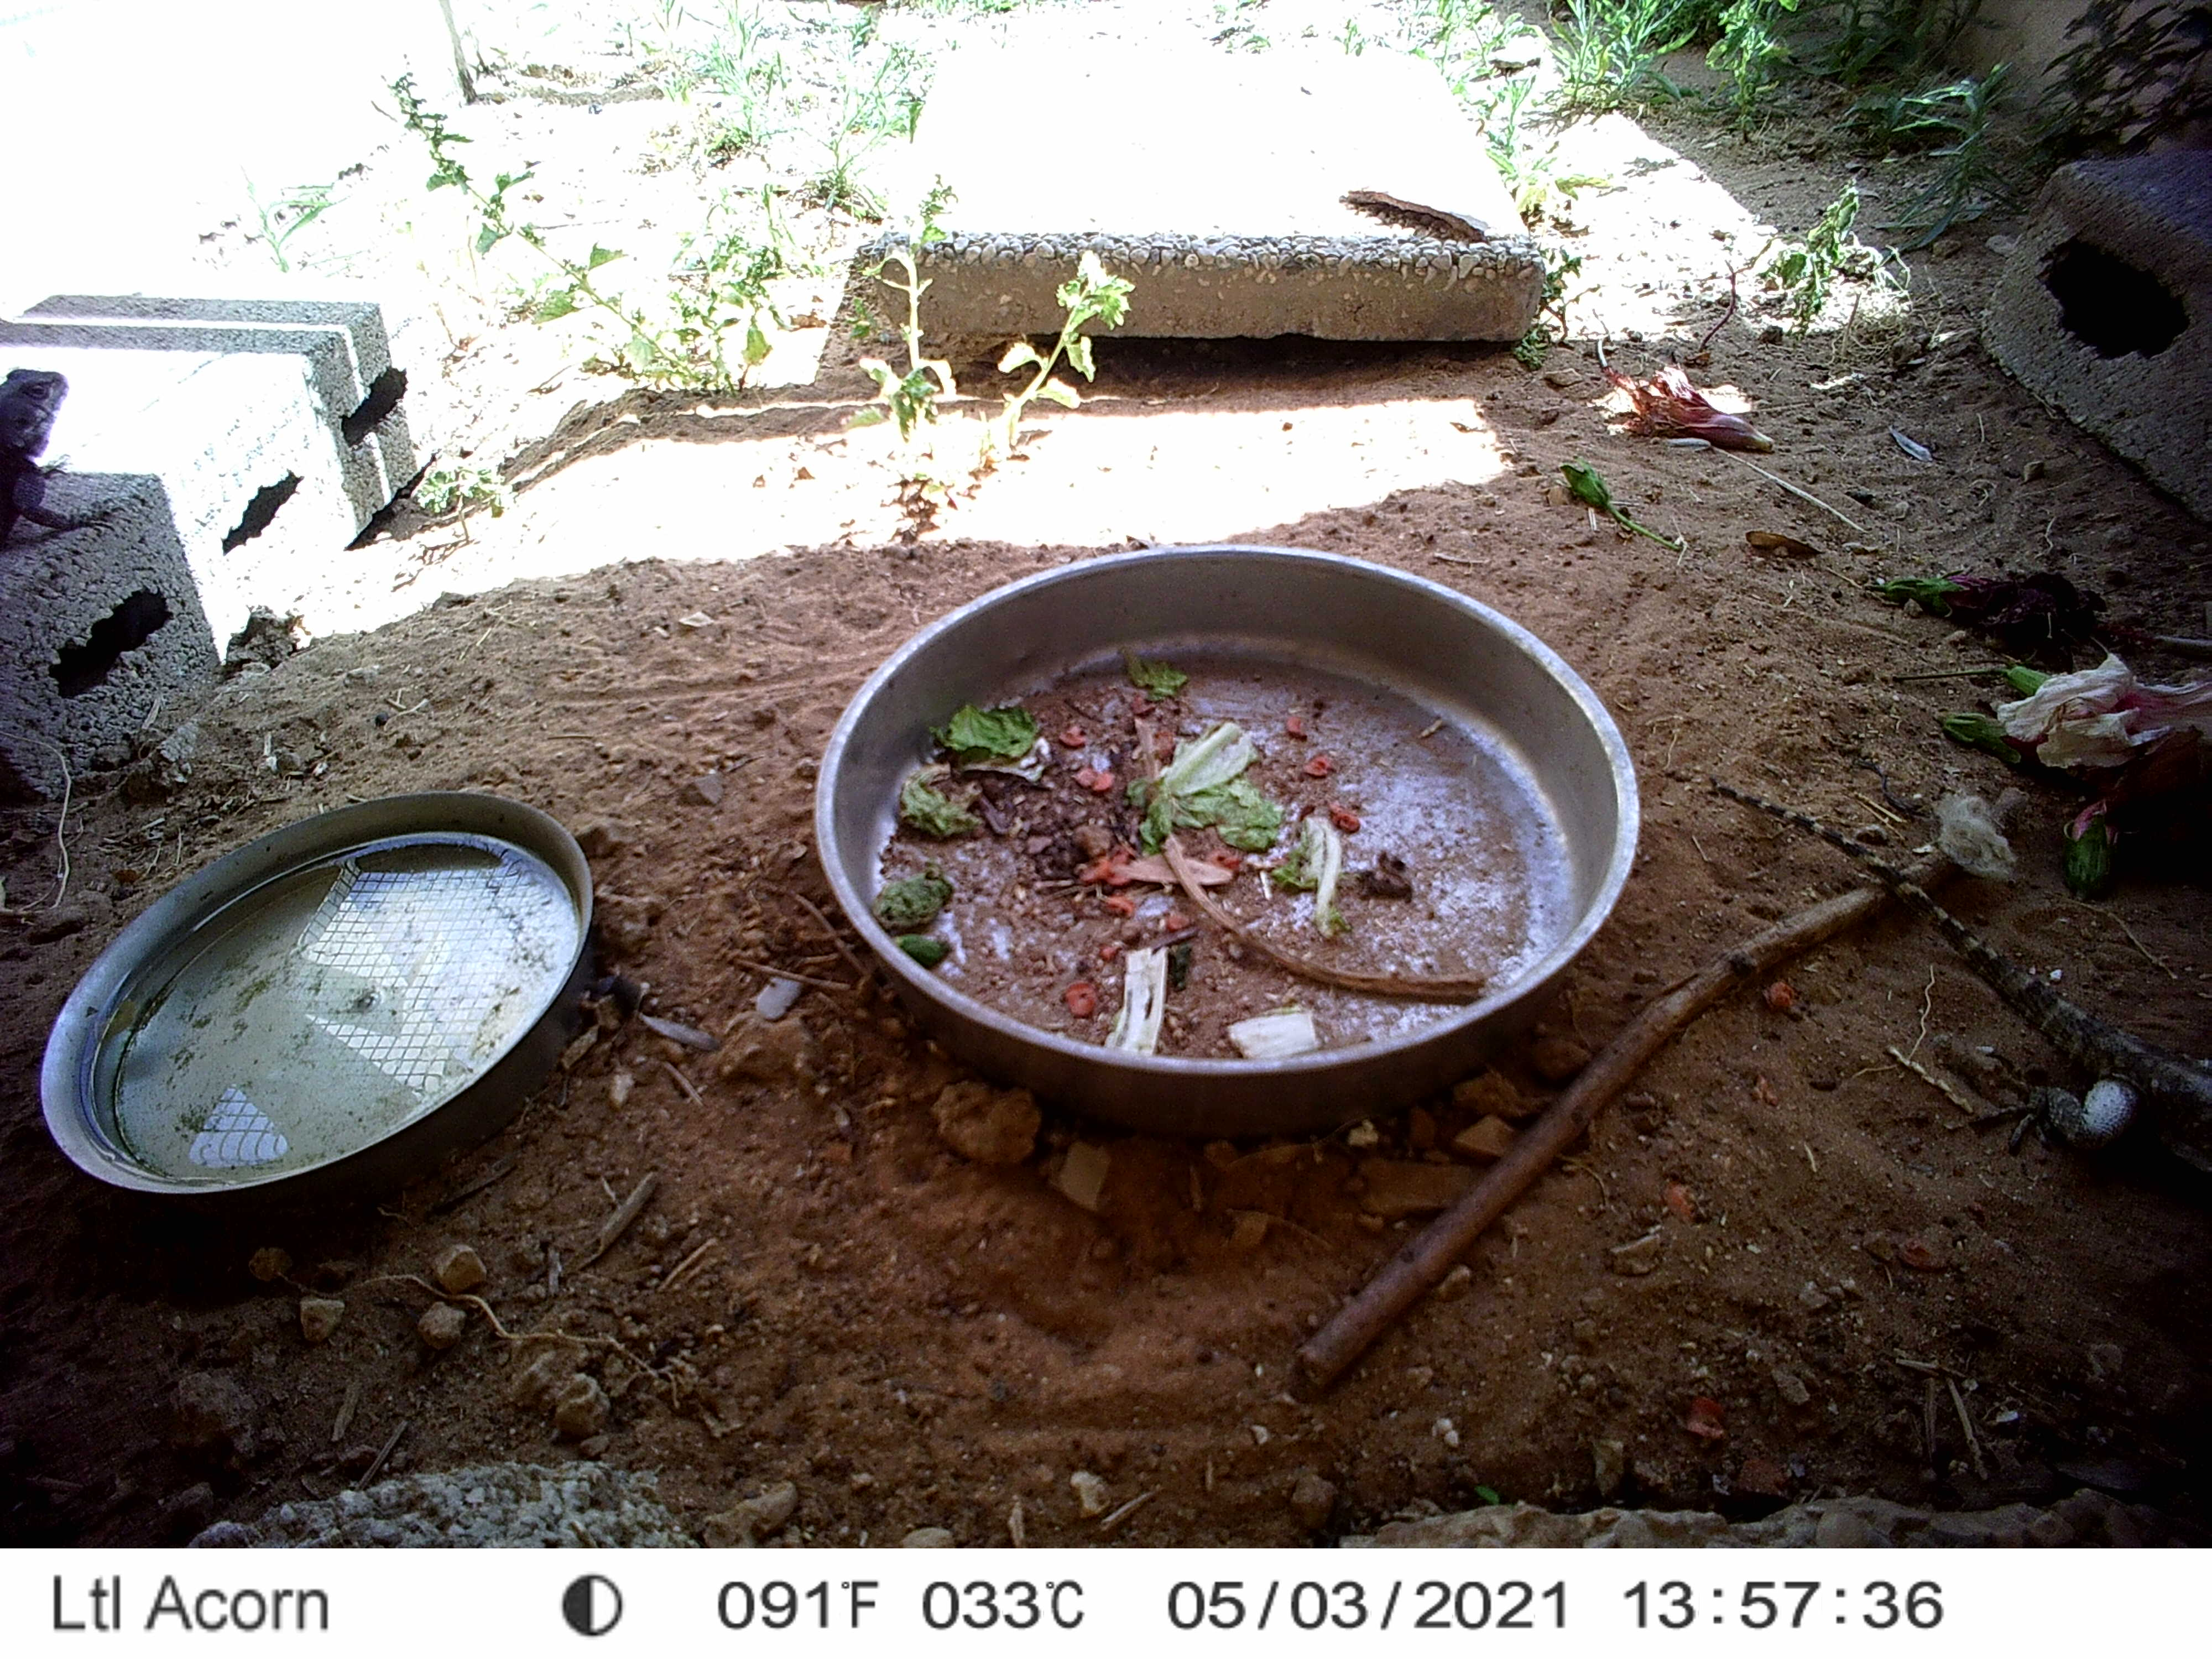lizard: (1707, 772, 2212, 1162), (0, 366, 118, 551)
